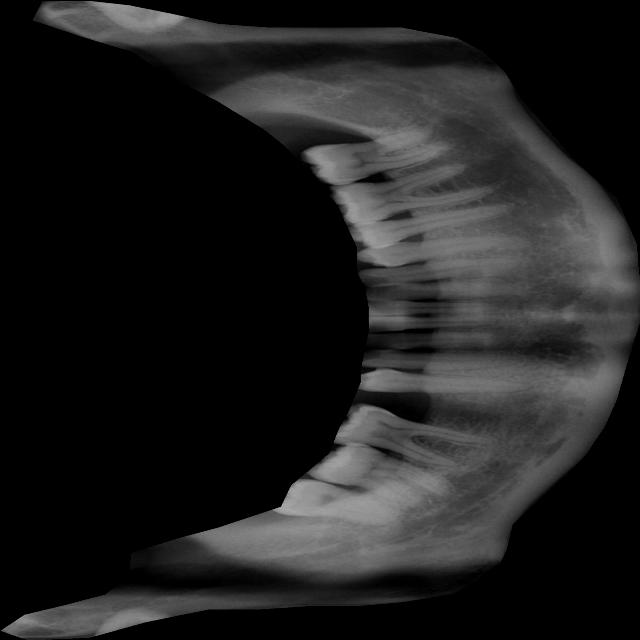mandibula: (0, 0, 640, 640)
